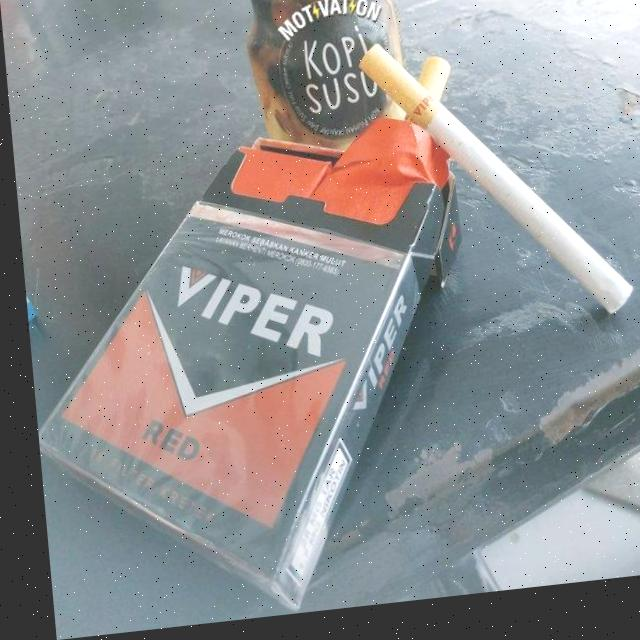cigarette: (355, 31, 631, 351)
